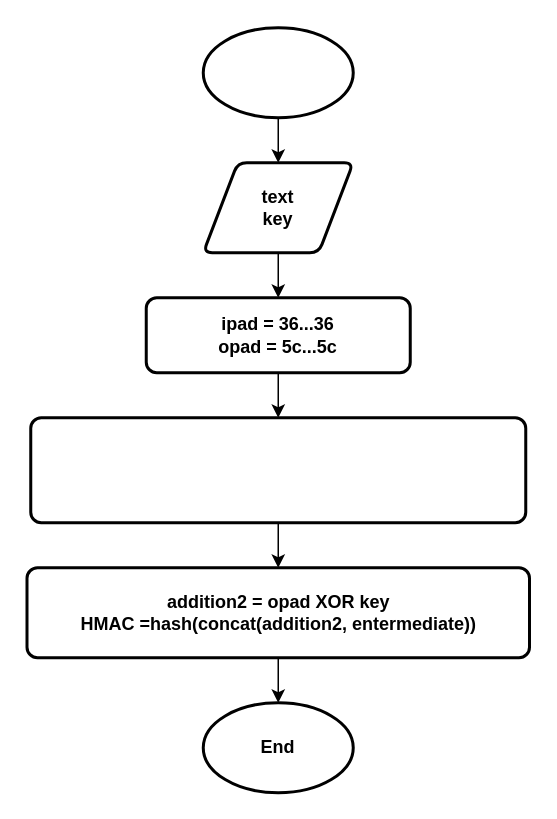
Image size: 557x819. Some labels were removed from this diagram. The shapes that lost their labels are listed below. From the top down, each one's box as (x1, y1, x2, y2) in pixels, then its label:
(201, 26, 354, 118): Start
(28, 416, 526, 524): addition1 = ipad XOR key entermediate = hash(concat(addition1, text))
